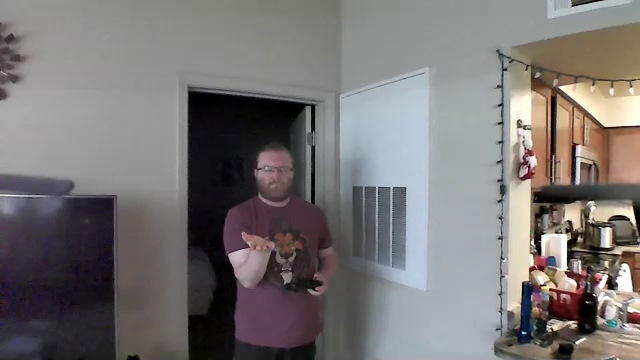land: (241, 230, 277, 254)
